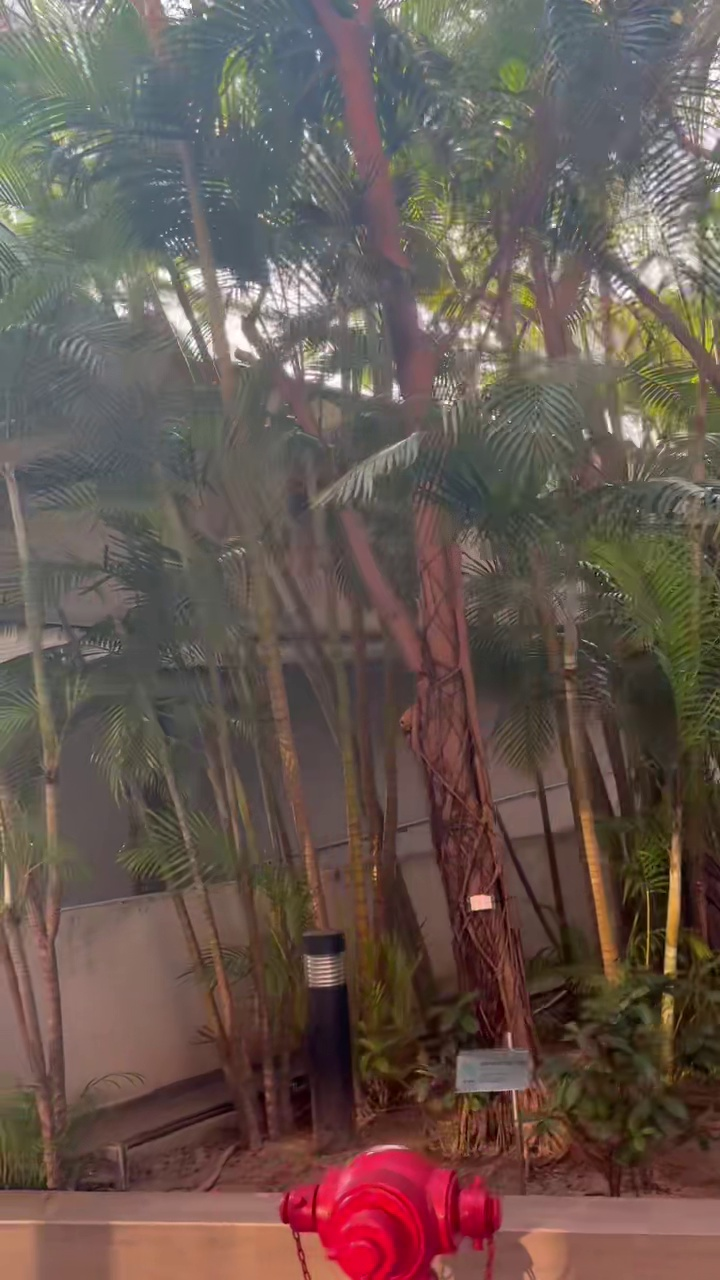Ficus benjamina: (312, 0, 532, 1047)
